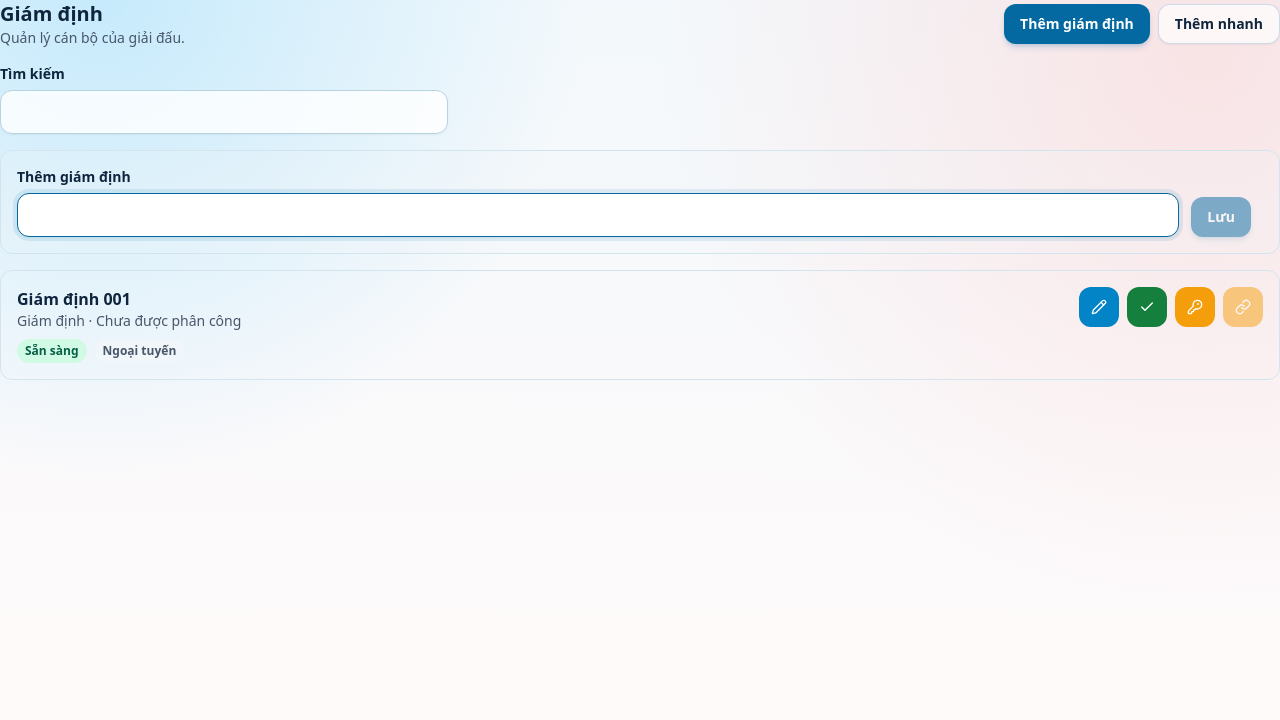
Test: TournamentOfficialsPage credentials › quickly creates numbered officials for JUDGE and keeps their passcodes
This screenshot has width=1280, height=720.
Click the button "Thêm nhanh". click: (1219, 24)
box: 1158,4 -> 1279,44
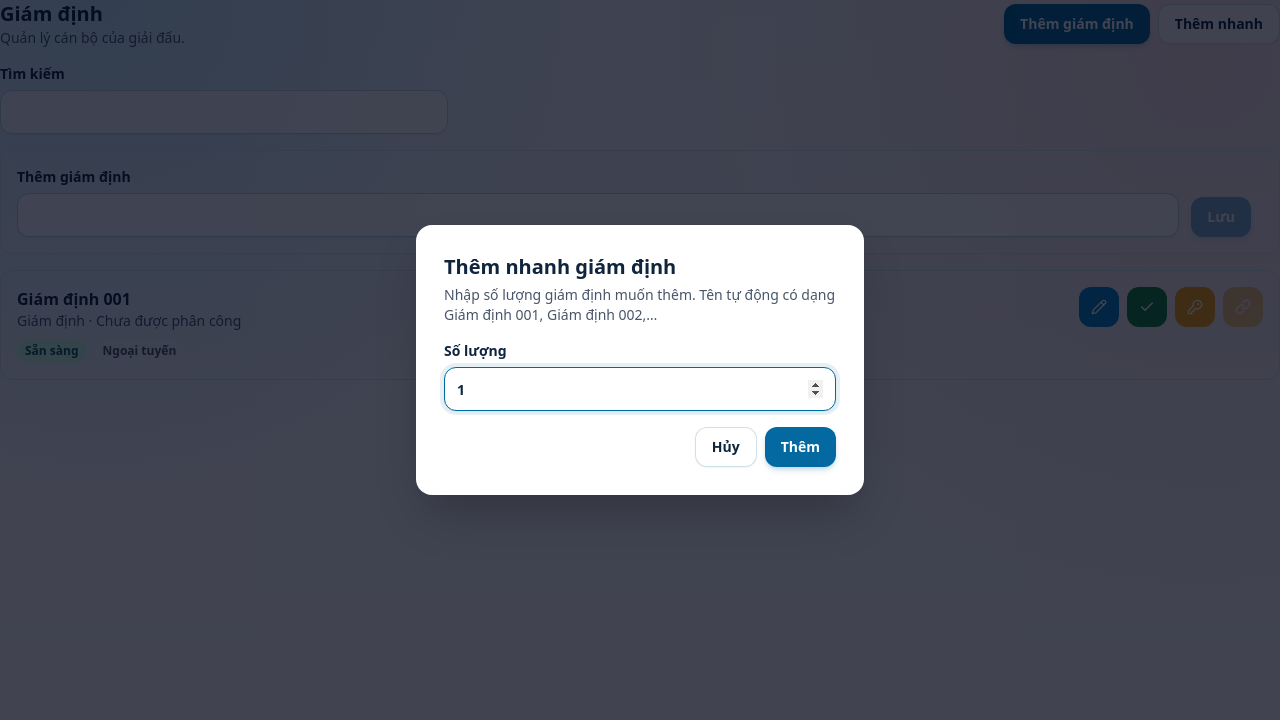
Replace the text in the number field labelled "Số lượng" with "2". click: (640, 389)
box: 444,367 -> 836,411
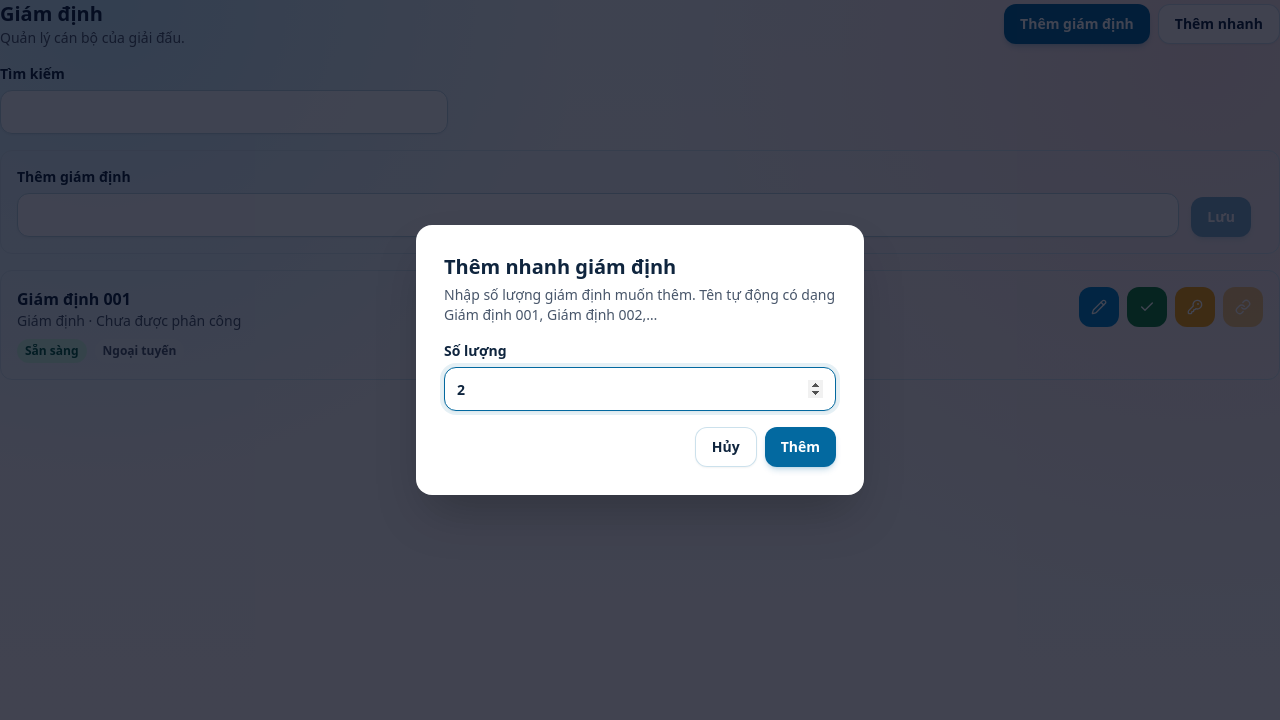
Click the button "Thêm". click: (800, 447)
box: 765,427 -> 836,467
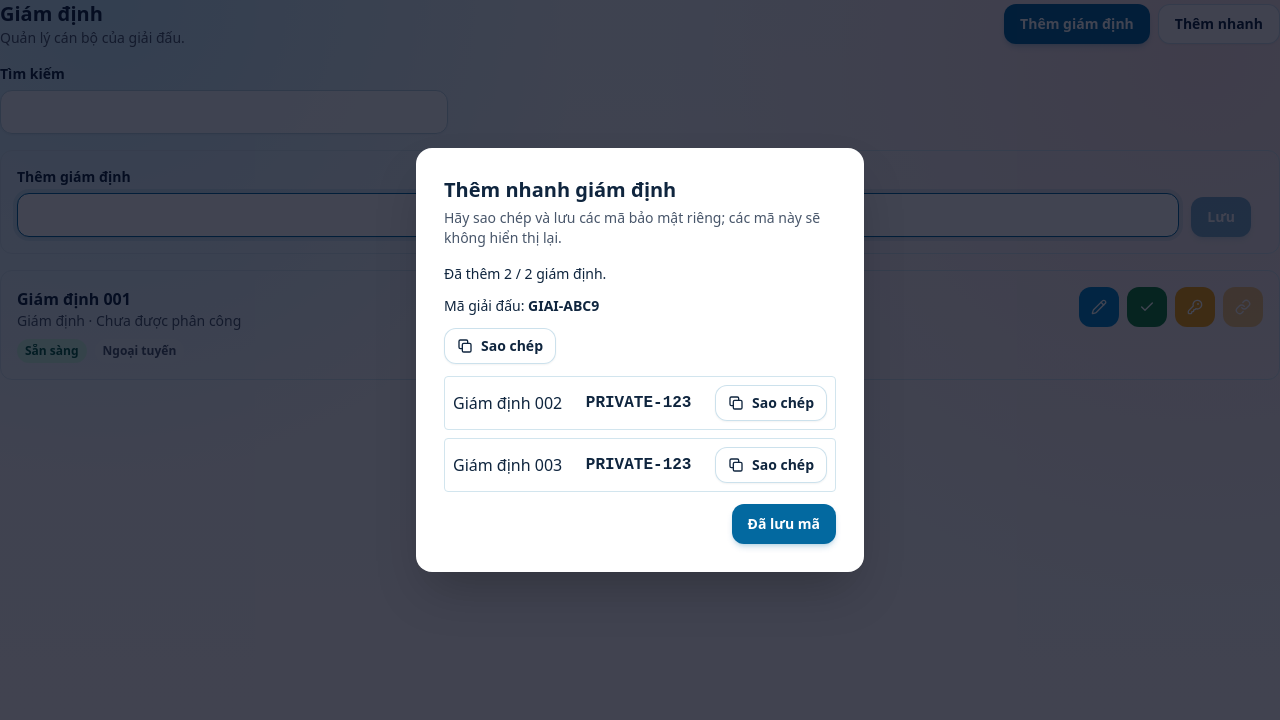
Result: the button "Đã lưu mã" is enabled at 732,504 -> 836,544
Result: the text "PRIVATE-123" is shown 2 times at 586,391 -> 691,415; 586,453 -> 691,477
